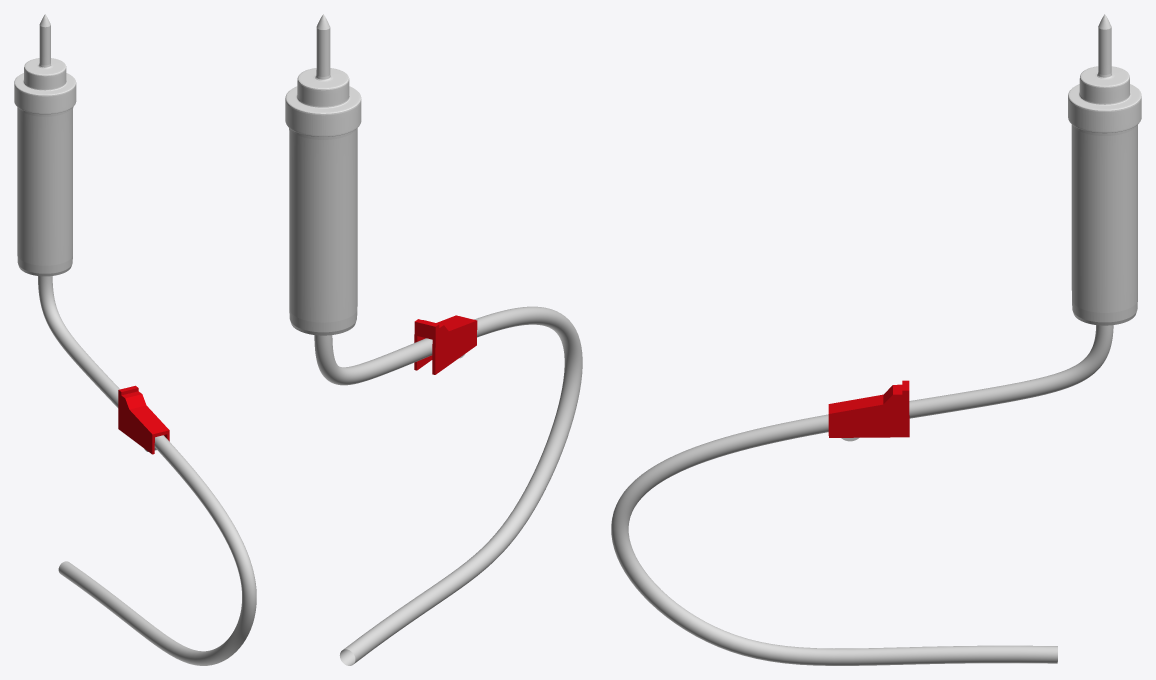
The model's file is infusion line ready.fbx.
3 views of the same model, side by side, from view 1: azimuth 30°, elevation 25°; view 2: azimuth 150°, elevation 25°; view 3: azimuth 270°, elevation 25° (orthographic). The views are drawn at different scales.
Parts seen in each view (by area): view 1: Cylinder.002, NurbsPath, Cylinder.001, Cube.002; view 2: Cylinder.002, NurbsPath, Cylinder.001, Cube.002; view 3: NurbsPath, Cylinder.002, Cylinder.001, Cube.002.
Part boxes in pixels (left/top/right/bottom): Cylinder.002: left=17, top=107, right=73, bottom=276; NurbsPath: left=38, top=276, right=256, bottom=665; Cylinder.001: left=14, top=14, right=156, bottom=451; Cube.002: left=118, top=385, right=169, bottom=454; Cylinder.002: left=289, top=128, right=357, bottom=335; NurbsPath: left=314, top=306, right=582, bottom=665; Cylinder.001: left=285, top=14, right=464, bottom=358; Cube.002: left=414, top=315, right=477, bottom=374; NurbsPath: left=611, top=325, right=1113, bottom=665; Cylinder.002: left=1071, top=124, right=1137, bottom=325; Cylinder.001: left=841, top=14, right=1141, bottom=441; Cube.002: left=828, top=380, right=909, bottom=437.
Size of the model in its own units: 221 by 2156 by 1592.
